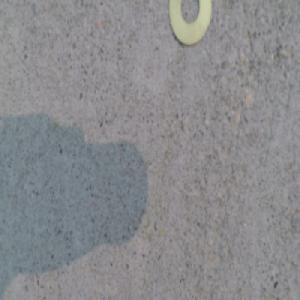Washer: (168, 0, 213, 49)
